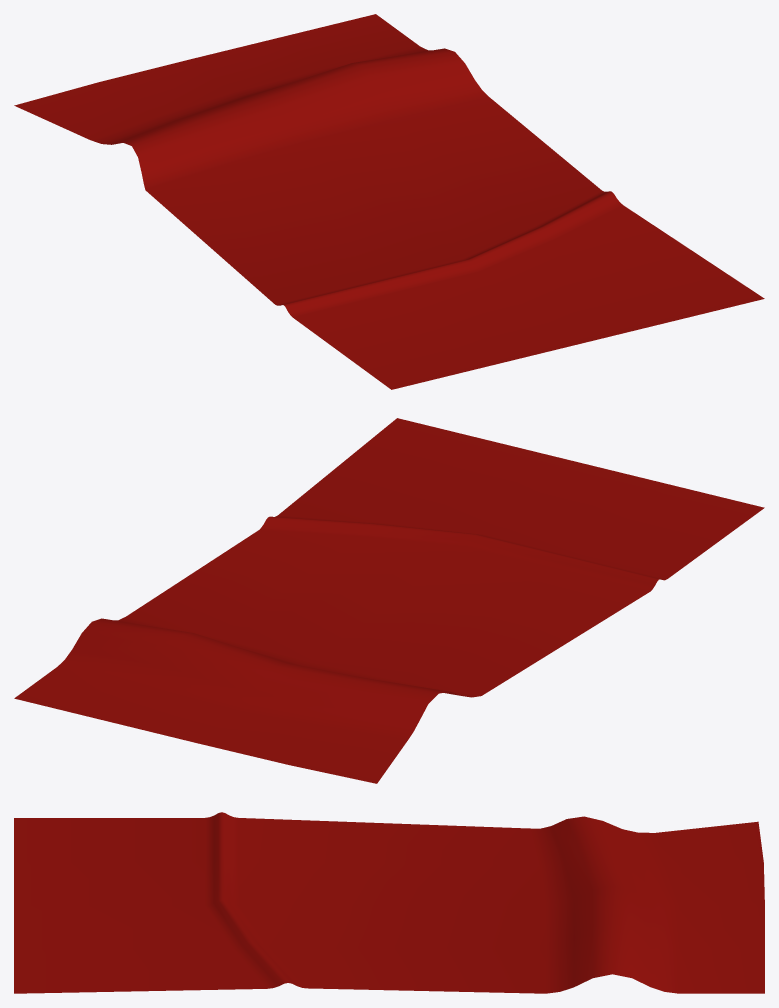
The model's file is carpet_plane_lump_2.obj.
3 renders of one model, top to bottom at view 1: azimuth 30°, elevation 25°; view 2: azimuth 150°, elevation 25°; view 3: azimuth 270°, elevation 25°, orthographic. The views are drawn at different scales.
Parts seen in each view (by area): view 1: carpet_plane_lump_2_Plane.004; view 2: carpet_plane_lump_2_Plane.004; view 3: carpet_plane_lump_2_Plane.004.
Part boxes in pixels (box(x1,y1,x2,y2)): carpet_plane_lump_2_Plane.004: box(14, 14, 764, 389); carpet_plane_lump_2_Plane.004: box(14, 418, 764, 783); carpet_plane_lump_2_Plane.004: box(14, 812, 764, 993).
Size of the model in its own units: 2 by 0.1541 by 3.61.
